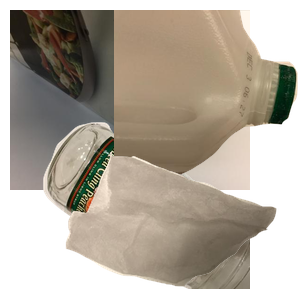cardboard: (10, 10, 250, 190)
glass: (41, 120, 281, 300)
plastic: (114, 10, 300, 179)
trash: (63, 149, 300, 300)
